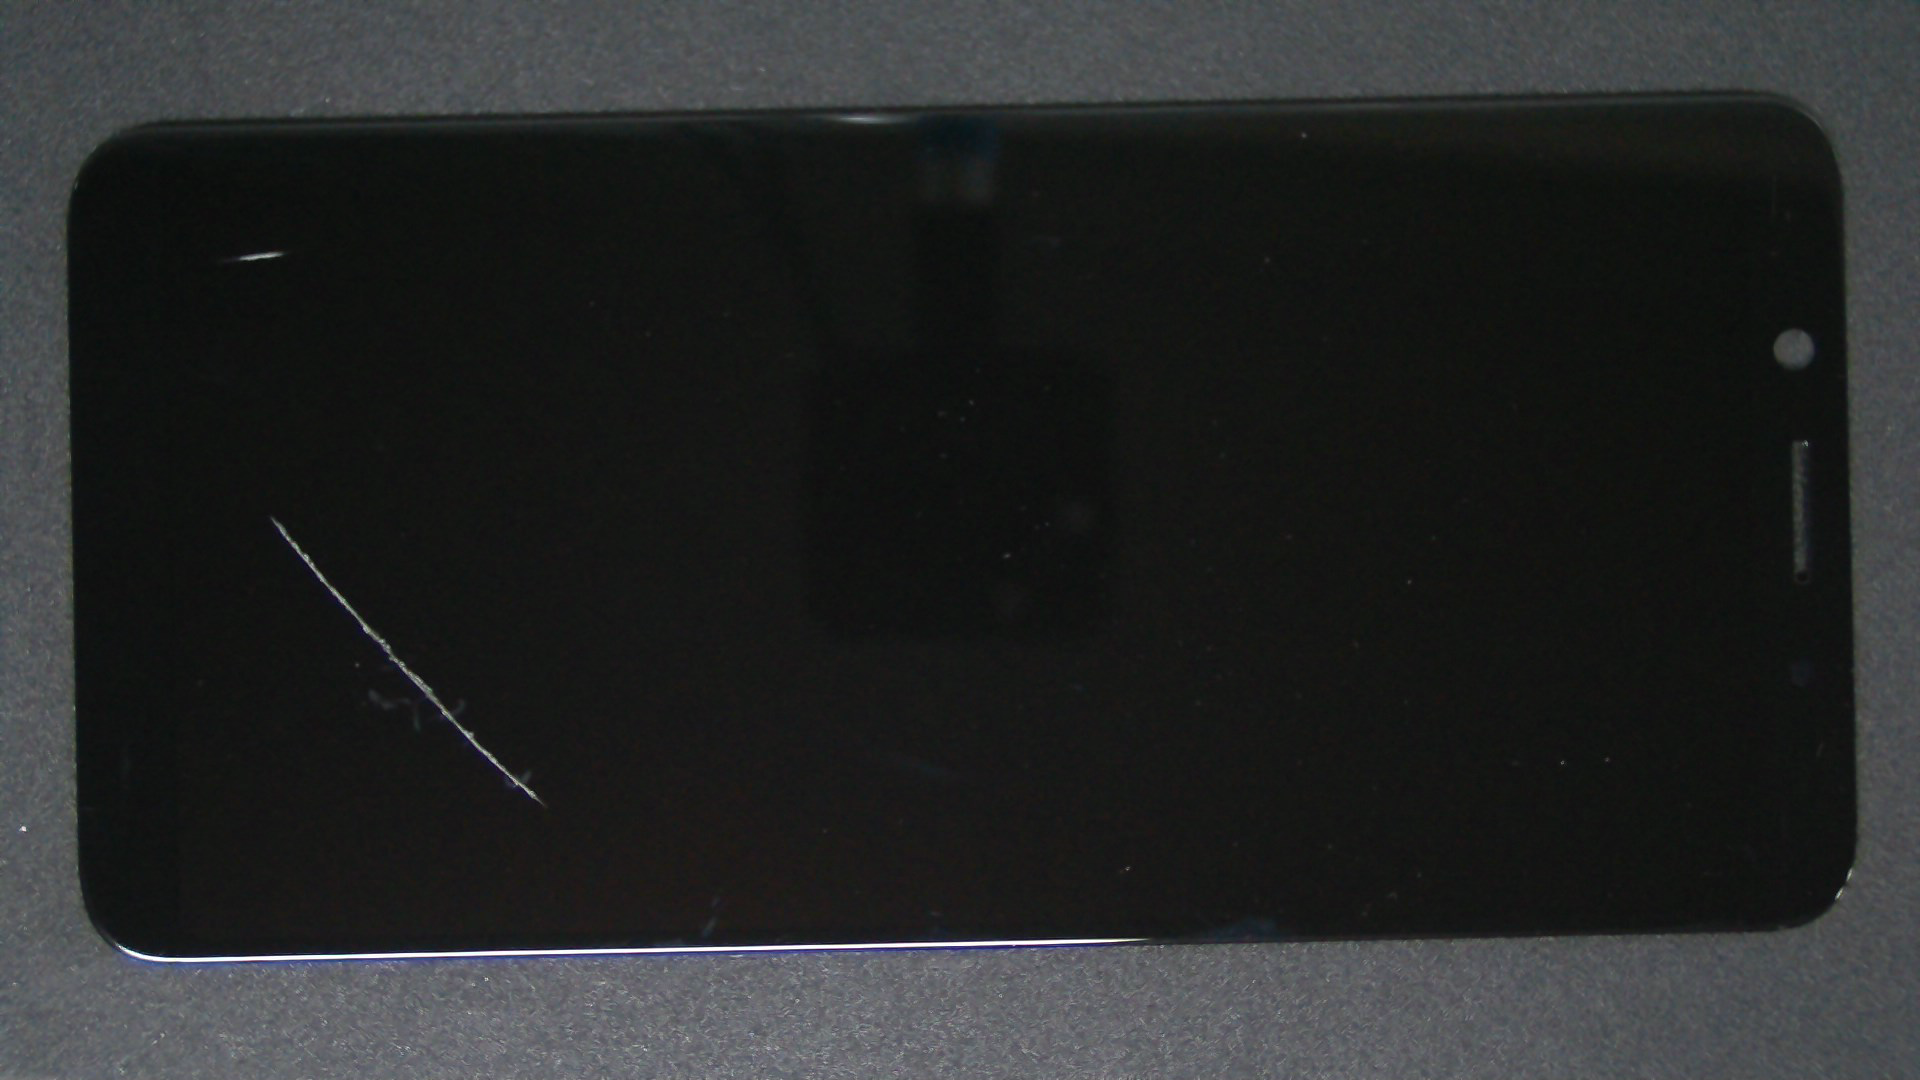defect: (270, 516, 543, 804), (237, 251, 284, 260)
